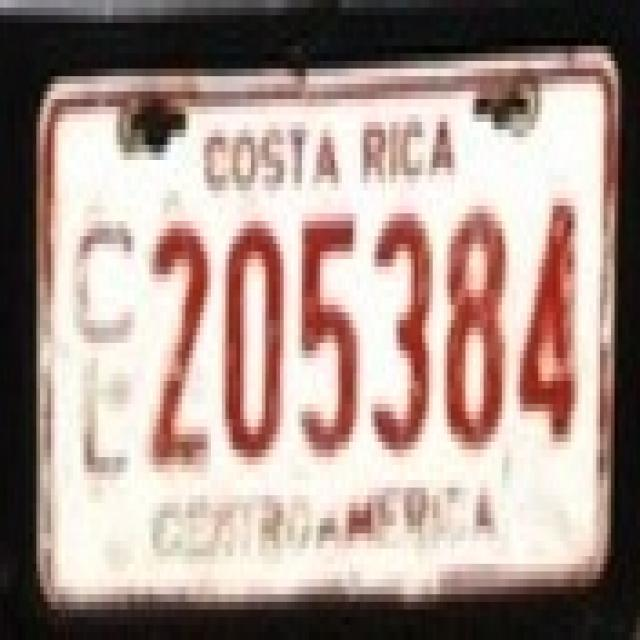licenseplate: (23, 50, 624, 622)
